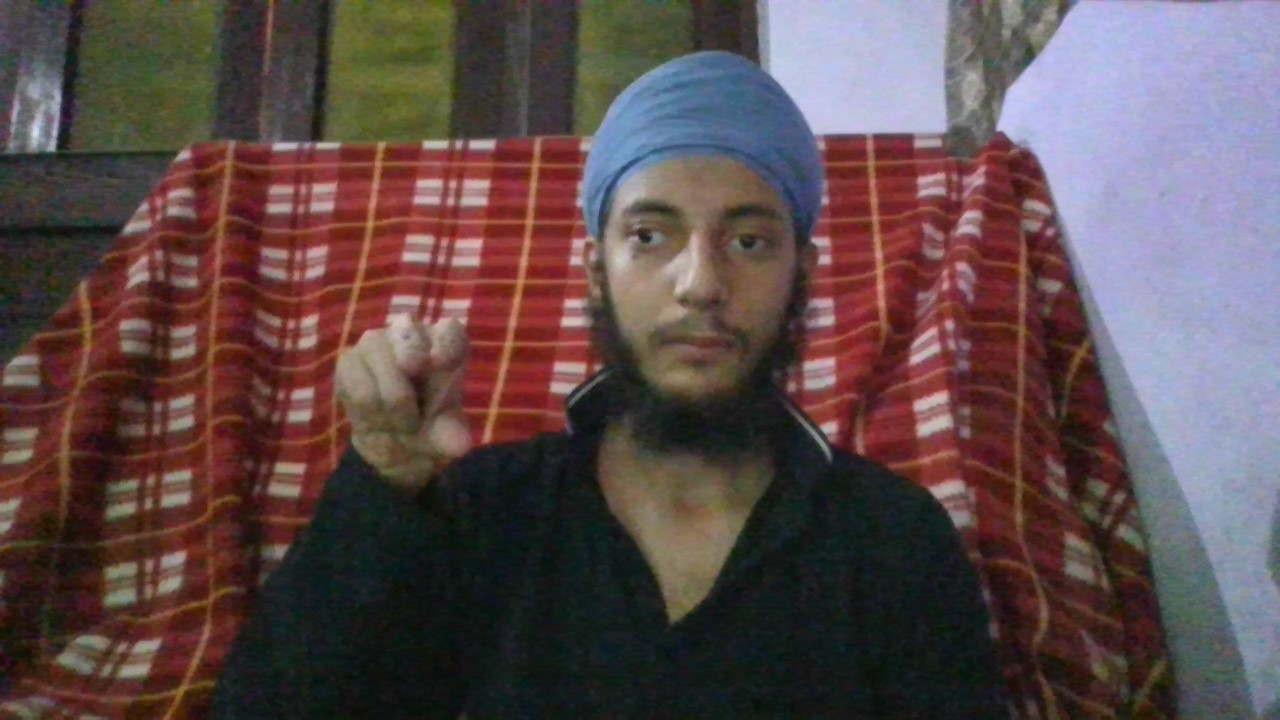No: (329, 312, 475, 472)
